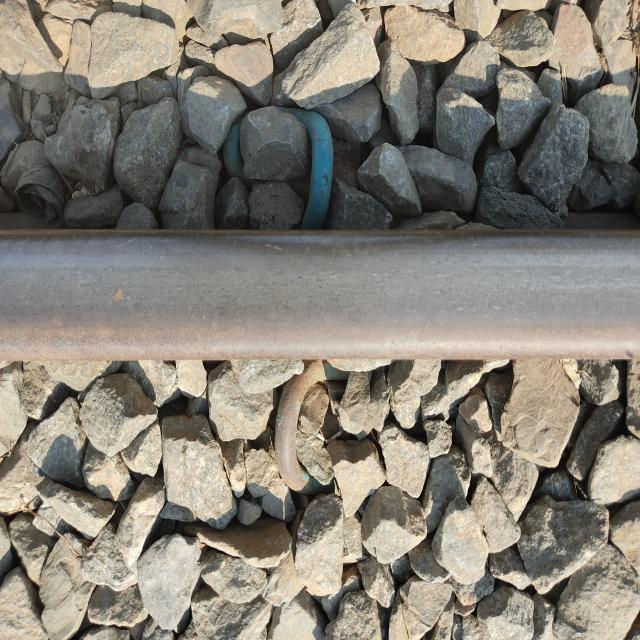non-defective: (116, 134, 555, 446)
